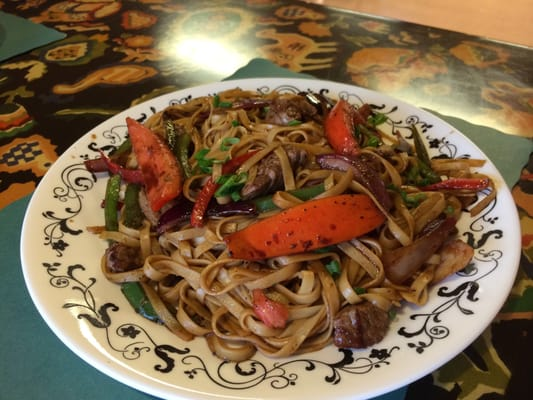curry: (2, 1, 531, 399)
pizza: (225, 192, 385, 260)
